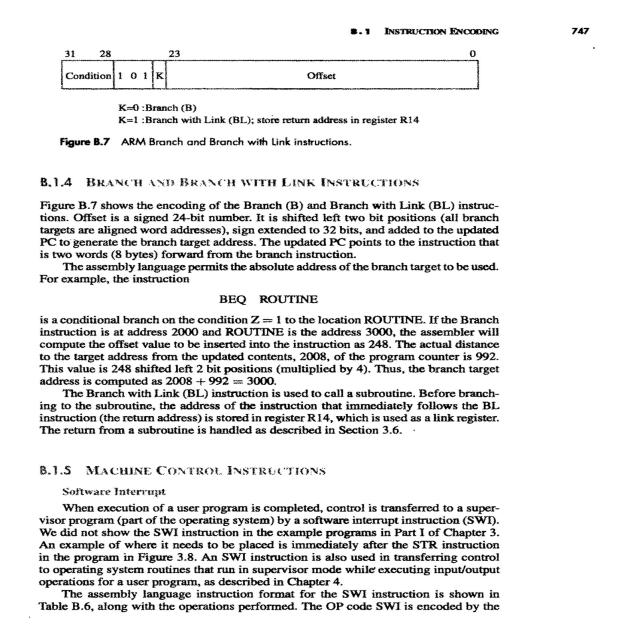diagram: (37, 46, 492, 155)
